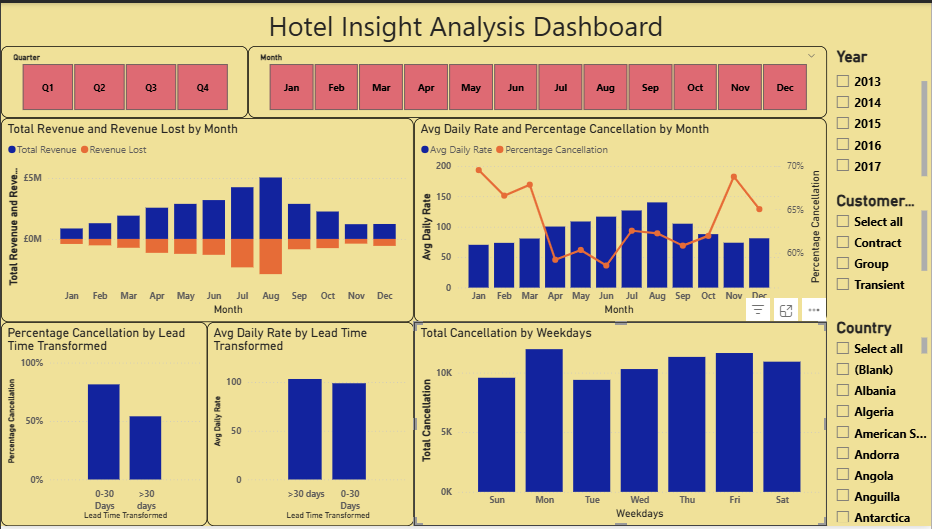

What the dashboard file says about the page in this screenshot:
{"tool":"powerbi","page":{"name":"Page 1","canvas":[1280,720],"ordinal":0},"visuals":[{"type":"columnChart","fields":{"Y":["All Measures.Total Revenue","All Measures.Revenue Lost"],"Category":["Calendar.MONTH"]},"box":[0,158.3,568.4,280.8],"z":0},{"type":"lineStackedColumnComboChart","fields":{"Y":["All Measures.Avg Daily Rate"],"Category":["Calendar.Month"],"Y2":["All Measures.Percentage Cancellation"]},"box":[568.4,158.3,568.4,280.8],"z":1000},{"type":"columnChart","fields":{"Category":["Fact Table.Lead Time Transformed"],"Y":["All Measures.Percentage Cancellation"]},"box":[0,439.1,283.5,280.8],"z":2000},{"type":"columnChart","fields":{"Category":["Fact Table.Lead Time Transformed"],"Y":["All Measures.Avg Daily Rate"]},"box":[283.5,439.1,284.9,280.8],"z":3000},{"type":"columnChart","fields":{"Category":["Calendar.Weekdays"],"Y":["All Measures.Total Cancellation"]},"box":[568.4,439.1,568.4,280.8],"z":4000},{"type":"textbox","box":[0,0,1280,59.2],"z":5000},{"type":"slicer","fields":{"Values":["Calendar.Year"]},"box":[1136.9,56.4,143.1,187.2],"z":6000},{"type":"slicer","fields":{"Values":["Fact Table.Customer Type"]},"box":[1136.9,254.6,143.1,145.9],"z":7000},{"type":"slicer","fields":{"Values":["Fact Table.Country"]},"box":[1136.9,429.4,143.1,290.4],"z":8000},{"type":"slicer","fields":{"Values":["Calendar.Quarter"]},"box":[0,59.2,340,99.1],"z":9000},{"type":"slicer","fields":{"Values":["Calendar.Month"]},"box":[340,59.2,796.9,99.1],"z":10000}]}

Visuals, with their boxes in screenshot pixels (x1, y1, x2, y2), scaled from the page's 1280x720 canvas onto the 932x529 screenshot:
columnChart - All Measures.Total Revenue x All Measures.Revenue Lost: <bbox>0, 116, 414, 323</bbox>
lineStackedColumnComboChart - All Measures.Avg Daily Rate x Calendar.Month: <bbox>414, 116, 828, 323</bbox>
columnChart - Fact Table.Lead Time Transformed x All Measures.Percentage Cancellation: <bbox>0, 323, 206, 528</bbox>
columnChart - Fact Table.Lead Time Transformed x All Measures.Avg Daily Rate: <bbox>206, 323, 414, 528</bbox>
columnChart - Calendar.Weekdays x All Measures.Total Cancellation: <bbox>414, 323, 828, 528</bbox>
textbox: <bbox>0, 0, 931, 43</bbox>
slicer - Calendar.Year: <bbox>828, 41, 931, 179</bbox>
slicer - Fact Table.Customer Type: <bbox>828, 187, 931, 294</bbox>
slicer - Fact Table.Country: <bbox>828, 315, 931, 528</bbox>
slicer - Calendar.Quarter: <bbox>0, 43, 248, 116</bbox>
slicer - Calendar.Month: <bbox>248, 43, 828, 116</bbox>
